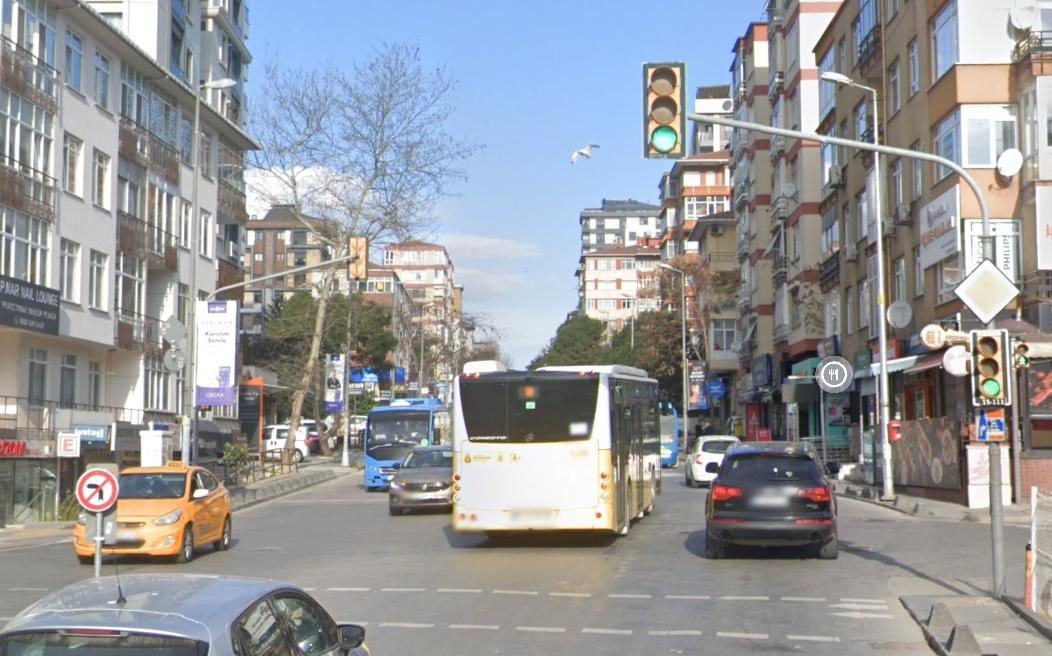greenlight: (643, 59, 684, 156), (973, 331, 1002, 399)
leftturnsareforbidden: (74, 468, 120, 513)
